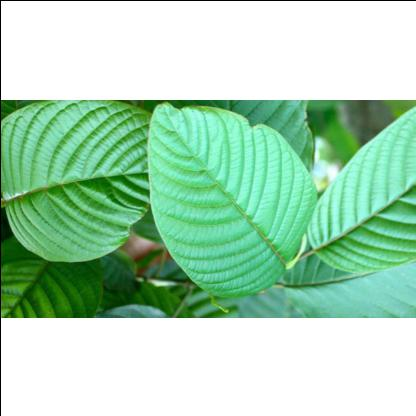kratom: (139, 100, 318, 298)
